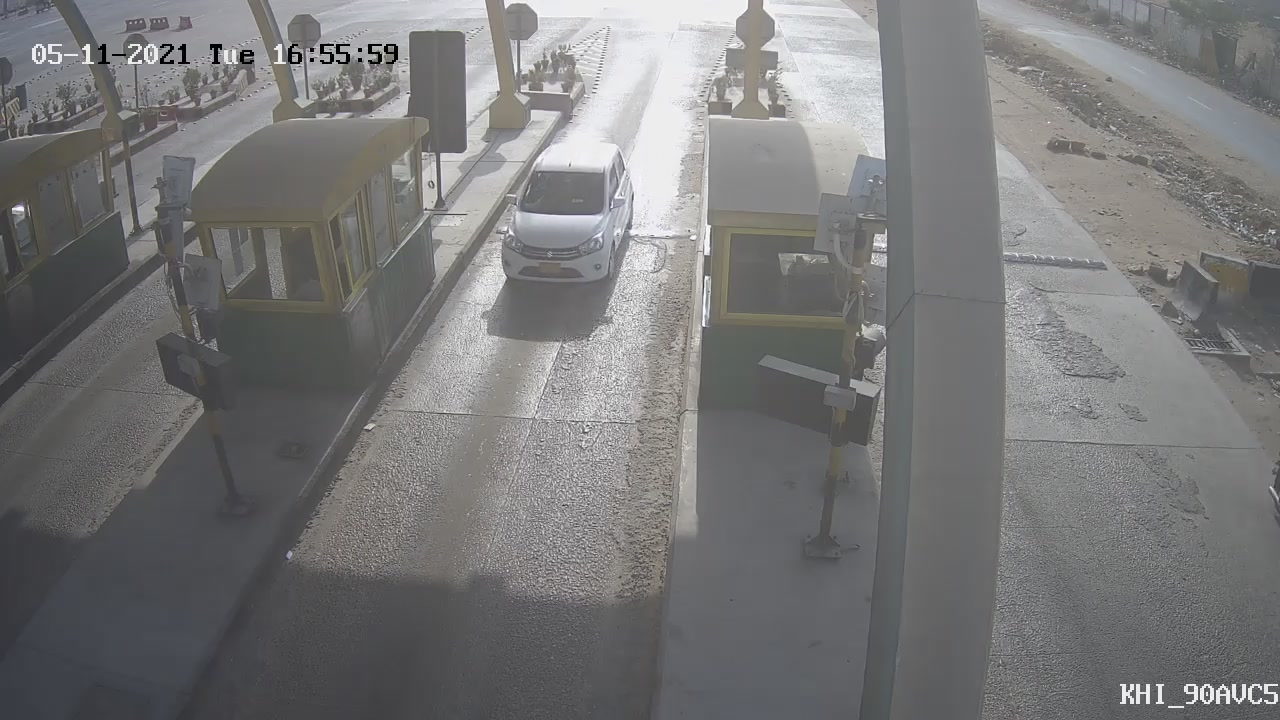F1: (473, 122, 656, 311)
